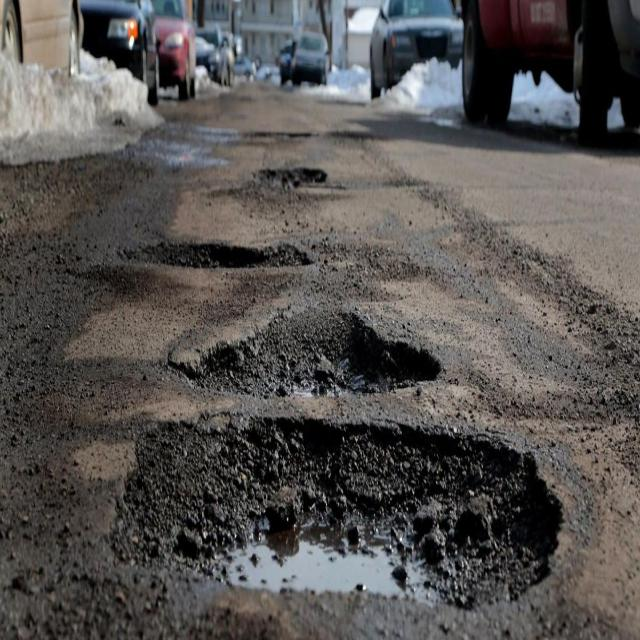Pothole: (152, 416, 561, 624), (199, 303, 425, 415), (147, 214, 272, 298), (256, 149, 333, 211)
